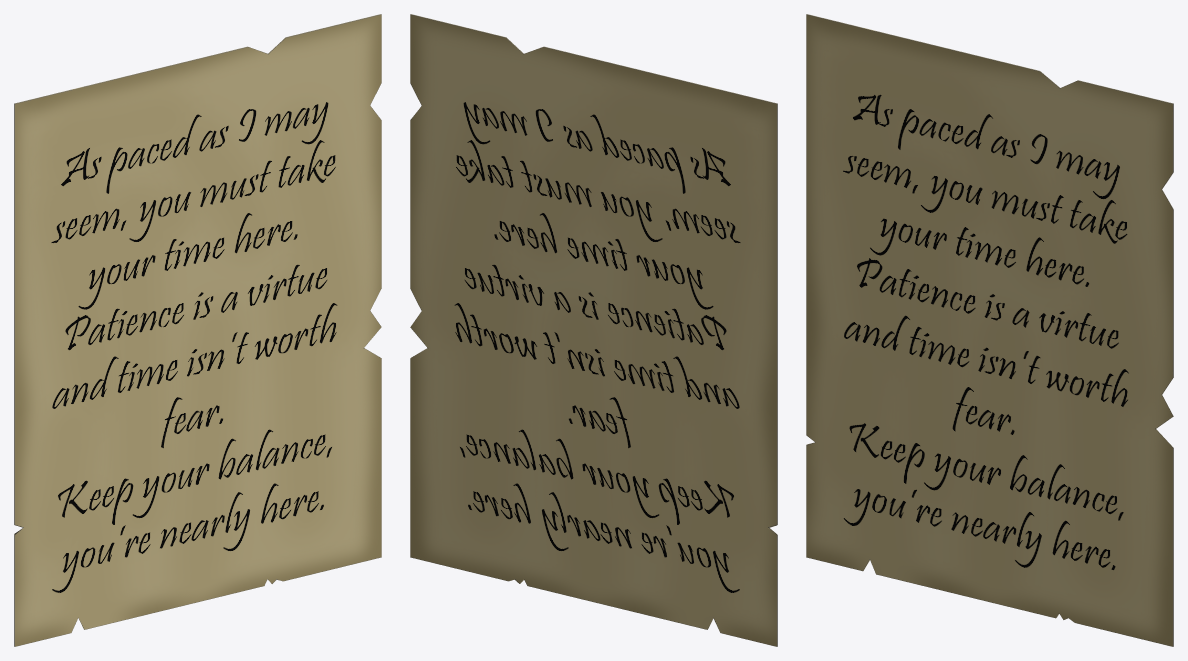
The model's file is p_note_4.fbx.
The picture shows the model from 3 angles, left to right: view 1: azimuth 30°, elevation 25°; view 2: azimuth 150°, elevation 25°; view 3: azimuth 330°, elevation 25°; orthographic projection.
Visible parts, largest first — view 1: pCube1; view 2: pCube1; view 3: pCube1.
Boxes of the visible parts, <box> form: pCube1: <box>14,14,381,646</box>; pCube1: <box>410,14,777,646</box>; pCube1: <box>806,14,1173,646</box>.
Size of the model in its own units: 42 by 59.4 by 0.1135.
